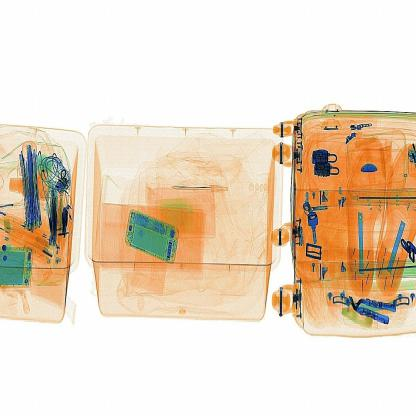pliers: (172, 173, 248, 205)
